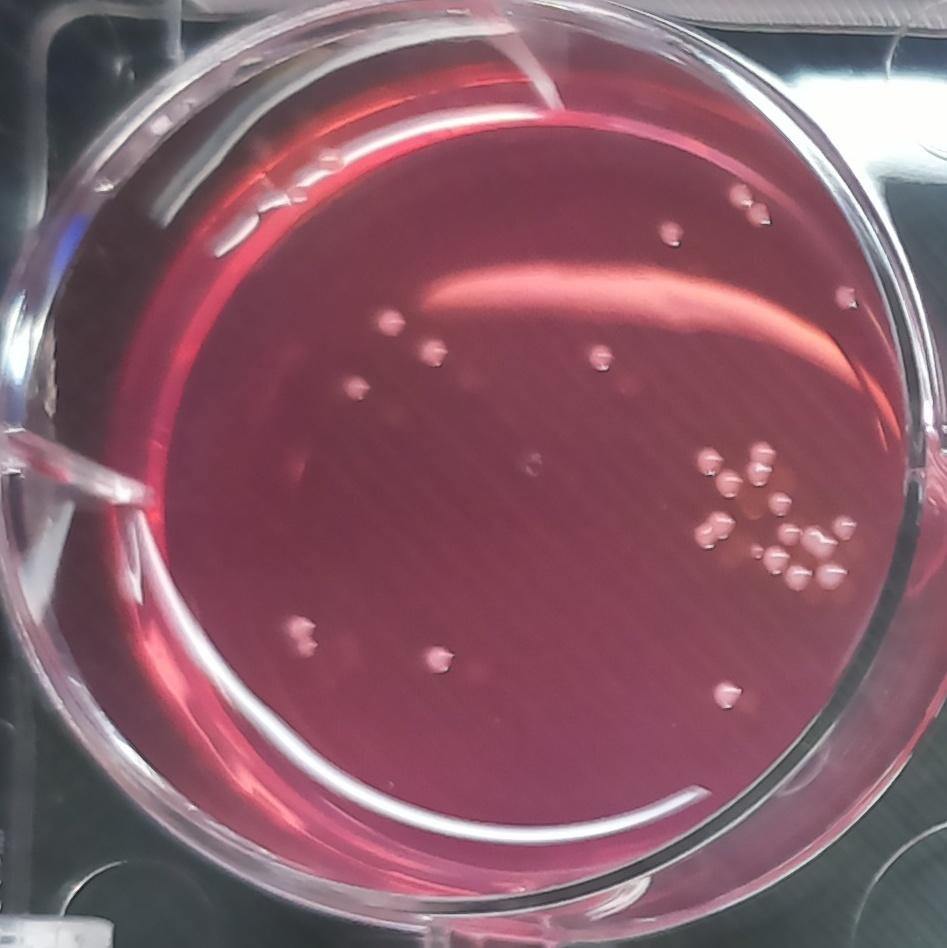bcereus: (280, 611, 322, 660), (801, 516, 838, 566), (583, 338, 622, 382), (411, 334, 452, 374), (371, 301, 410, 343), (338, 368, 375, 409), (658, 215, 695, 255), (826, 280, 861, 317)
